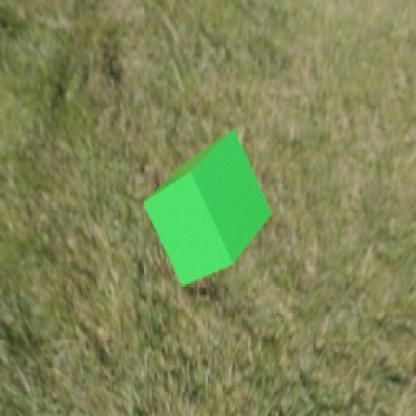cube: (143, 128, 272, 286)
